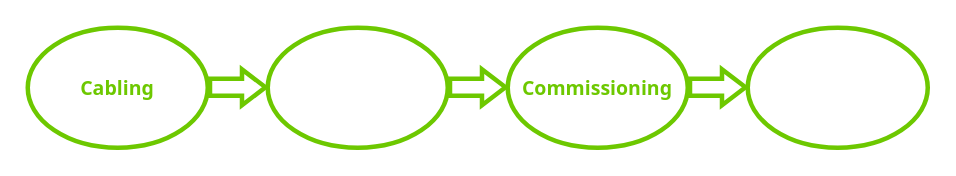
Image size: 956x176. Some labels were removed from this diagram. The shapes that lost their labels are listed below. From the top down, each one's centre as x and y in pixels, then its label:
pixel 357 87: Network Configuration
pixel 837 87: Validation
